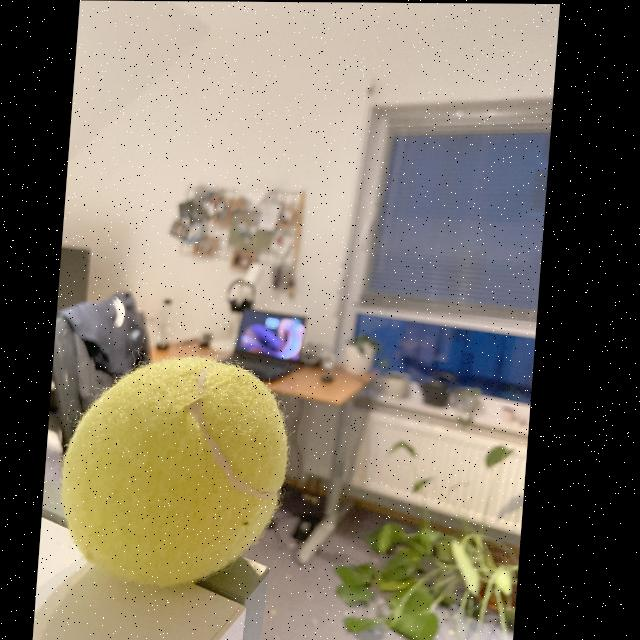Tennisball: (62, 357, 287, 586)
